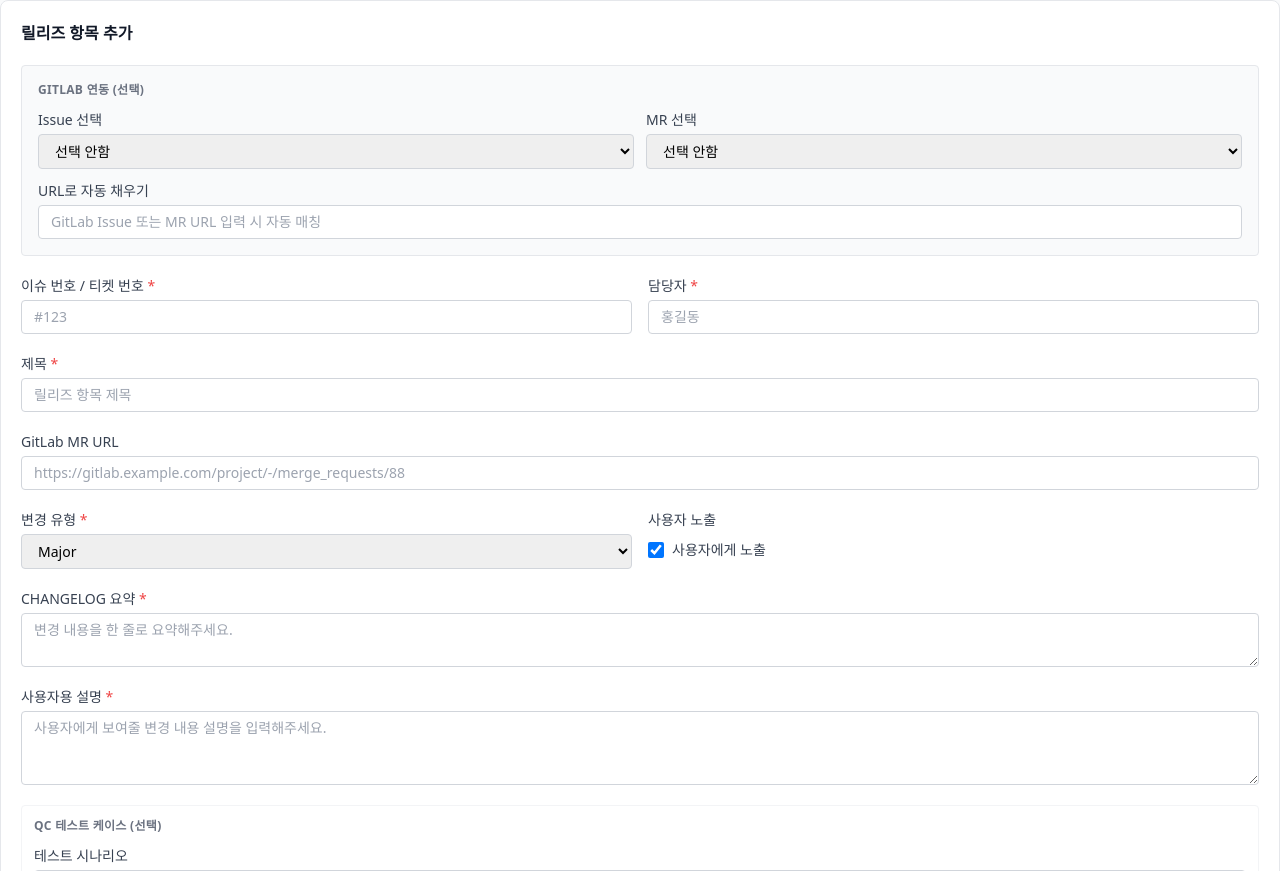
Test: ReleaseItemForm › GitLab Issue URL 입력 시 매칭된 issue 기본 정보가 채워진다
Type "https://gitlab.example.com/project/-/issues/123" into the field labelled "URL로 자동 채우기" at (640, 222), box top-left (38, 205), bottom-right (1242, 239)
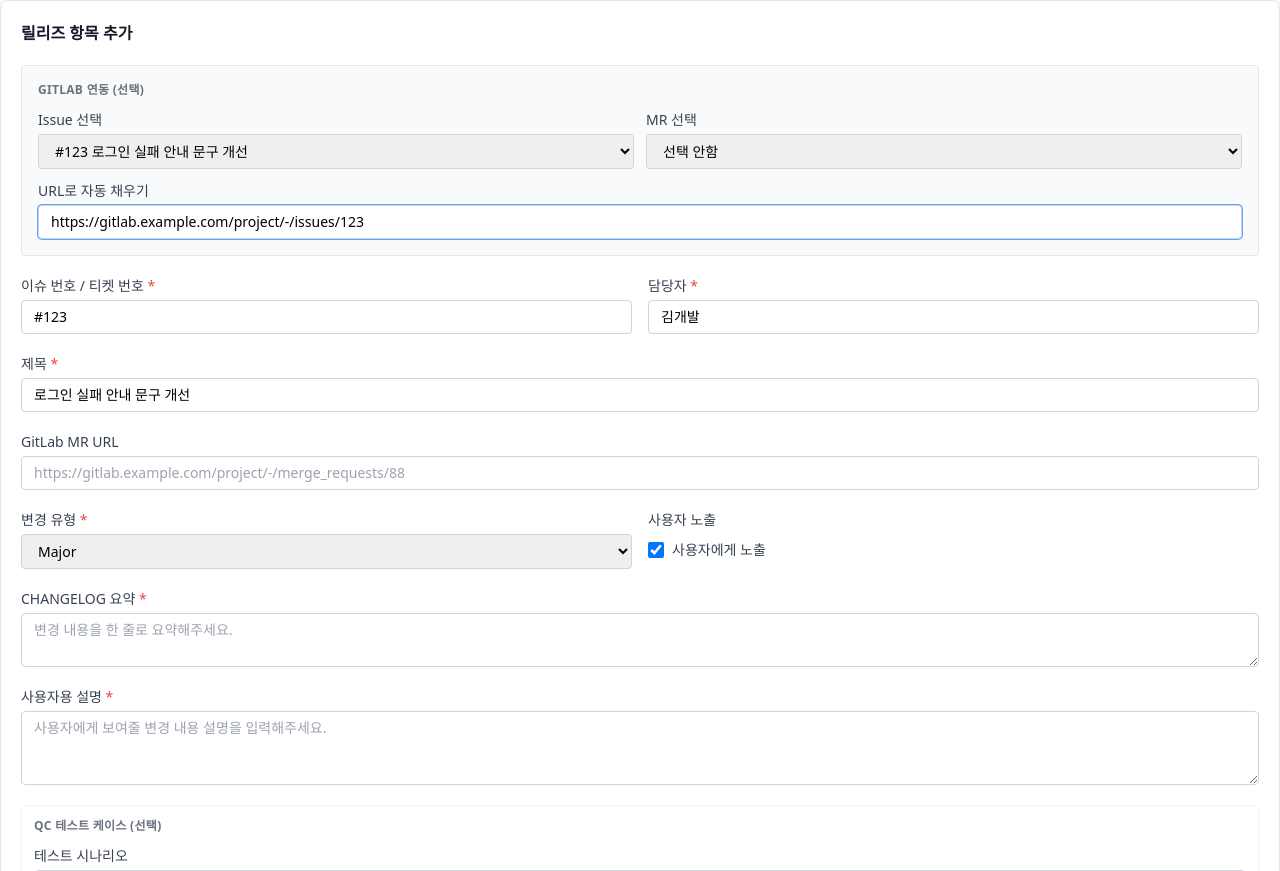
Expected: the field labelled "이슈 번호 / 티켓 번호 *" holds "#123", top-left (21, 300), bottom-right (632, 334)
Expected: the field labelled "제목 *" holds "로그인 실패 안내 문구 개선", top-left (21, 378), bottom-right (1259, 412)
